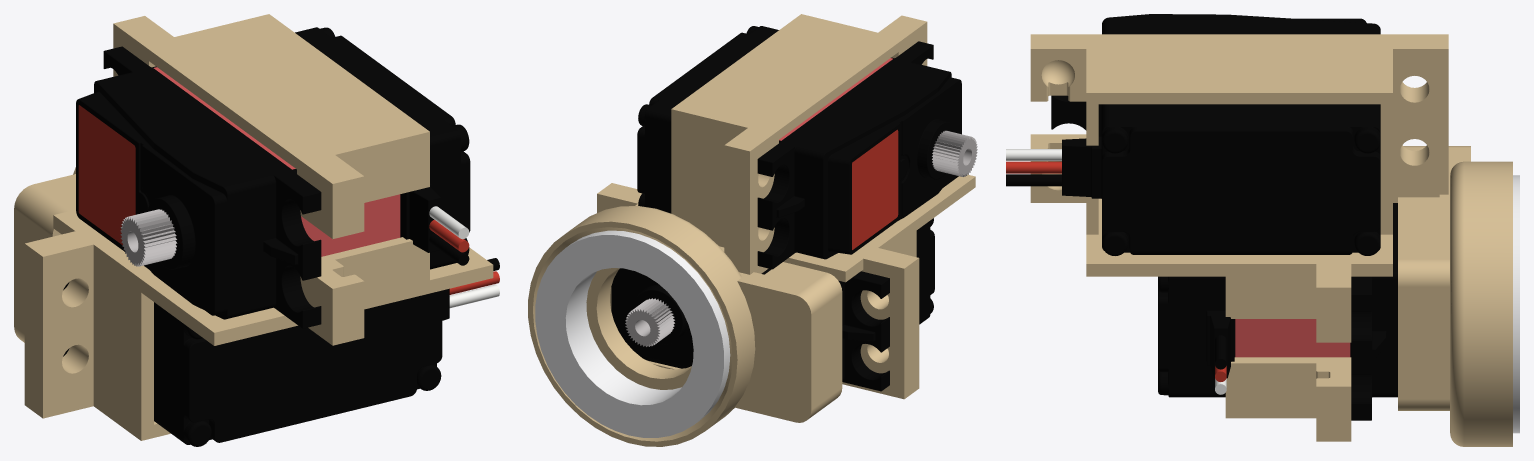
File: tourelle_guet.obj
3 views of the same model, side by side, from view 1: azimuth 30°, elevation 25°; view 2: azimuth 150°, elevation 25°; view 3: azimuth 270°, elevation 25° (orthographic). The views are drawn at different scales.
Visible parts, largest first — view 1: Corps1, pas_impr:1, pas_impr, Corps2, pas_imp:1; view 2: Corps1, pas_impr:1, Corps2, Corps1:1, pas_impr, pas_imp, pas_imp:1; view 3: Corps1, pas_impr:1, Corps2, pas_impr, Corps1:1.
Boxes of the visible parts, box(x1,y1,x2,y2) form: Corps1: box(24, 14, 493, 440); pas_impr:1: box(76, 27, 470, 328); pas_impr: box(63, 258, 499, 446); Corps2: box(14, 167, 75, 342); pas_imp:1: box(120, 209, 177, 266); Corps1: box(597, 14, 975, 399); pas_impr:1: box(637, 26, 961, 269); Corps2: box(528, 206, 842, 446); Corps1:1: box(535, 230, 730, 437); pas_impr: box(611, 218, 934, 391); pas_imp: box(625, 298, 674, 346); pas_imp:1: box(932, 130, 977, 176); Corps1: box(1030, 34, 1448, 441); pas_impr:1: box(1006, 14, 1380, 255); Corps2: box(1398, 146, 1512, 446); pas_impr: box(1158, 203, 1397, 420); Corps1:1: box(1513, 175, 1519, 433).
Bounding box in the file's own units: 6.38 × 5.5 × 7.37.
